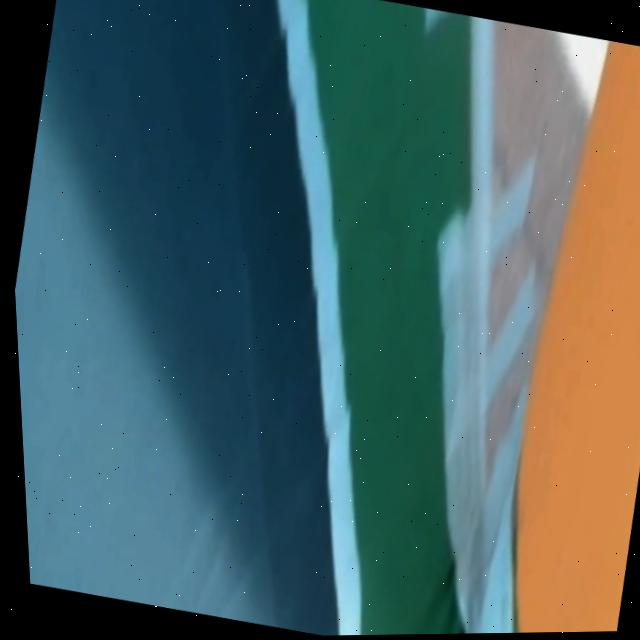right: (277, 0, 360, 635)
